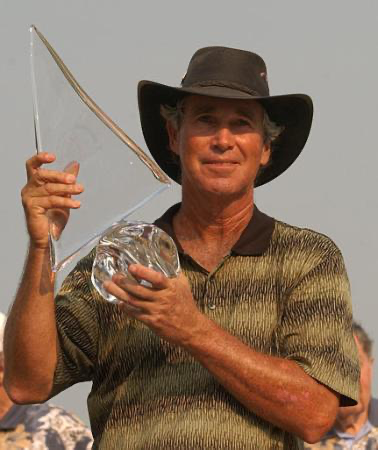Face: (172, 90, 269, 204)
